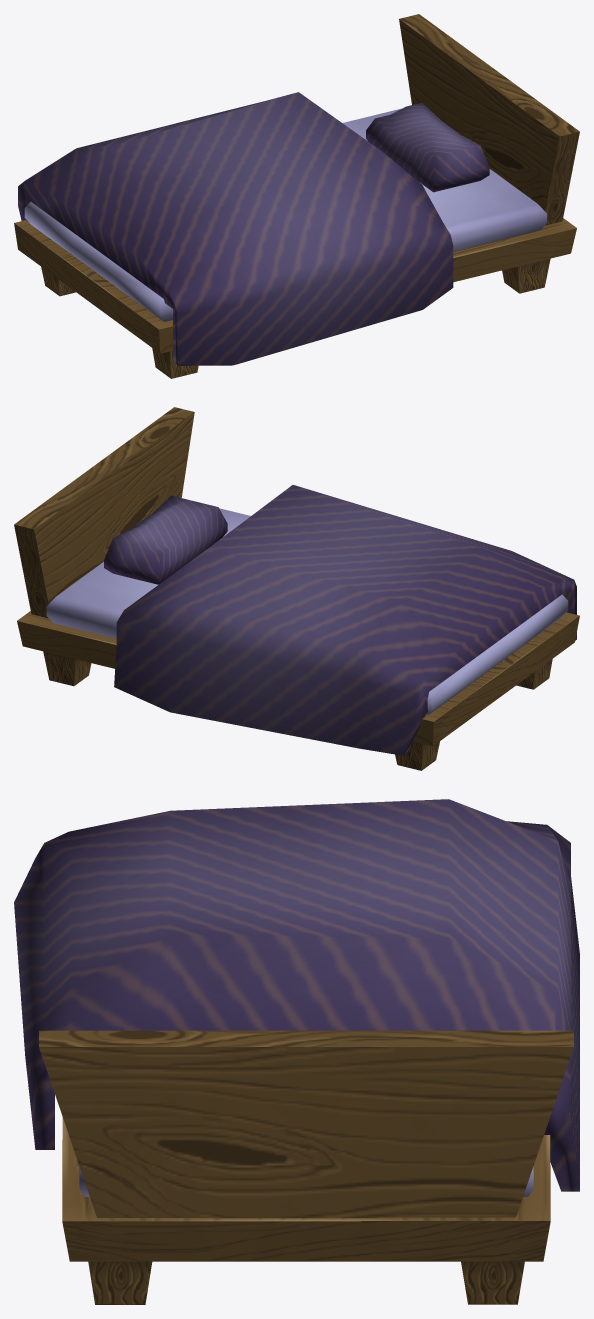
The model's file is bed.fbx.
3 views of the same model, one above another, from view 1: azimuth 30°, elevation 25°; view 2: azimuth 150°, elevation 25°; view 3: azimuth 270°, elevation 25° (orthographic). The views are drawn at different scales.
Parts seen in each view (by area): view 1: pCube5; view 2: pCube5; view 3: pCube5.
Boxes of the visible parts, x1,y1,x2,y2 form: pCube5: [14, 14, 579, 378]; pCube5: [14, 407, 579, 770]; pCube5: [14, 799, 579, 1304].
Size of the model in its own units: 27.34 by 10.25 by 19.28.
1 material, 1 textured.
